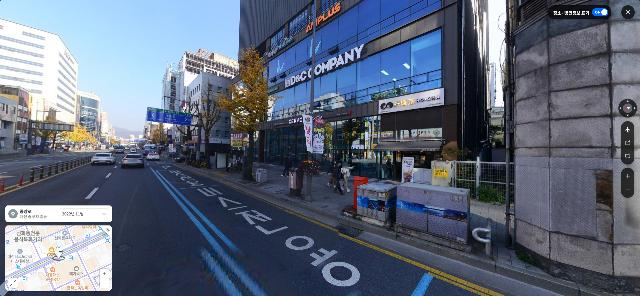ginkgo: (215, 45, 284, 181), (195, 82, 226, 169), (64, 124, 95, 151)
other: (183, 97, 201, 160)
